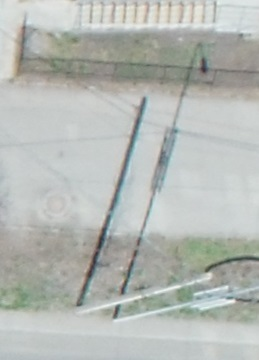opora: (71, 253, 215, 315), (109, 283, 256, 325)
